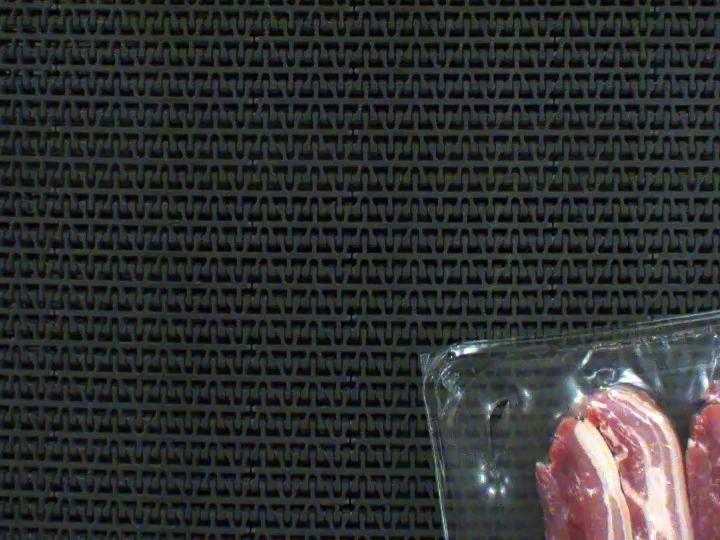unsealed: (481, 303, 720, 540)
